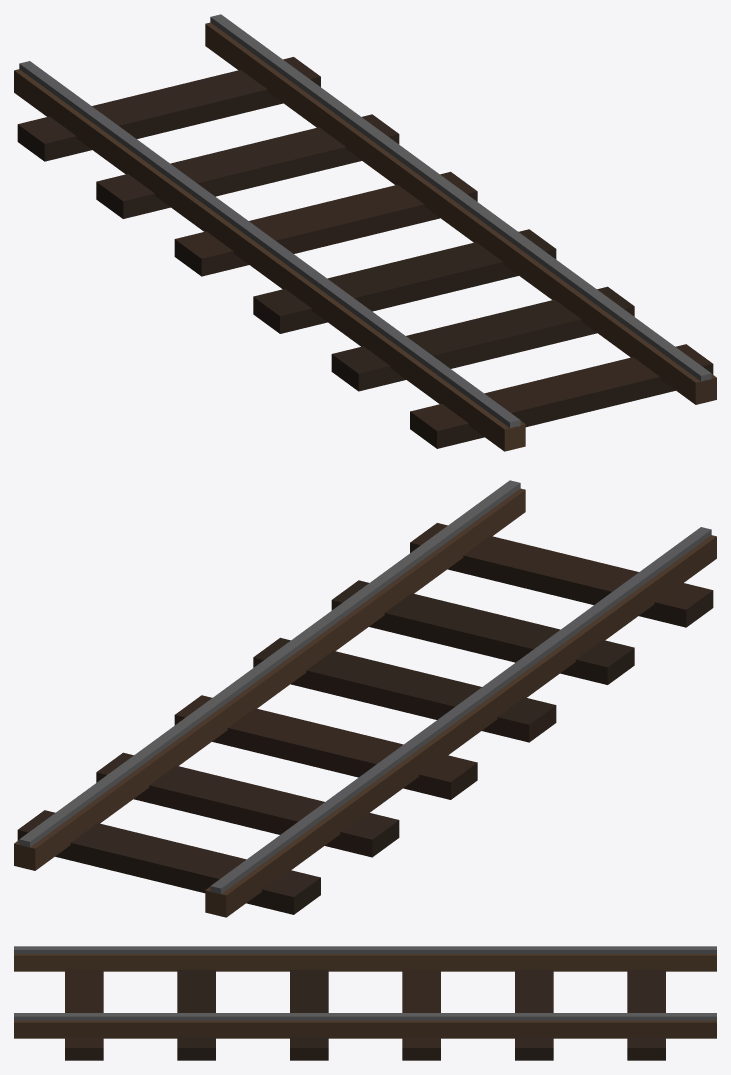
The model's file is walk_prop_rails.glb.
3 views of the same model, one above another, from view 1: azimuth 30°, elevation 25°; view 2: azimuth 150°, elevation 25°; view 3: azimuth 270°, elevation 25° (orthographic). The views are drawn at different scales.
Visible parts, largest first — view 1: walk_prop_rails; view 2: walk_prop_rails; view 3: walk_prop_rails.
Part boxes in pixels (x1,y1,x2,y2): walk_prop_rails: (14,14,716,451); walk_prop_rails: (14,480,716,917); walk_prop_rails: (14,946,716,1060).
Size of the model in its own units: 1.3 by 0.195 by 4.
2 materials, 2 textured.
